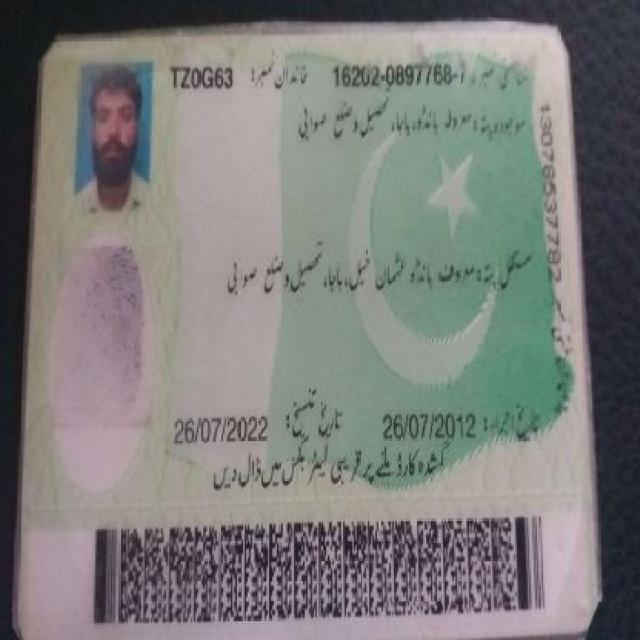Back: (25, 34, 597, 609)
